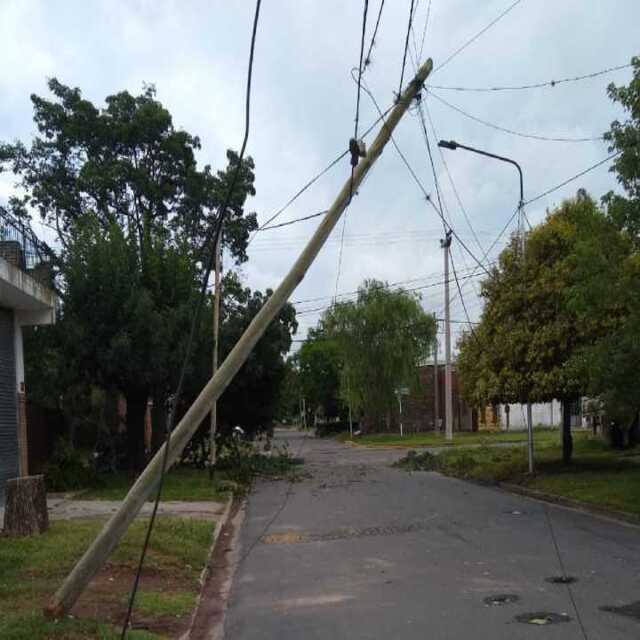Inclined Pole: (40, 53, 439, 617)
